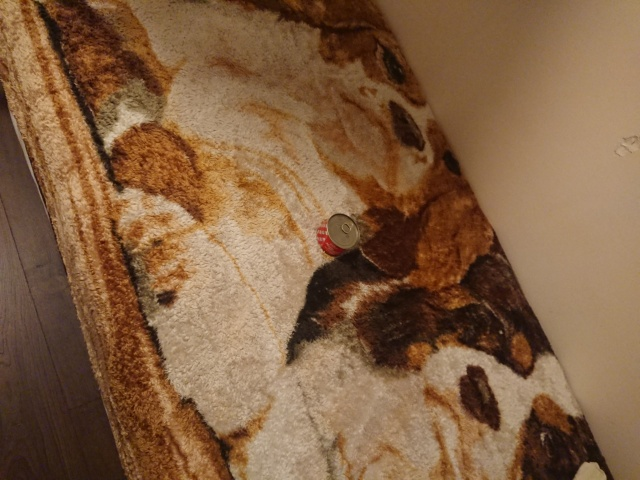Podravka Luncheon Meat 150g: (315, 212, 362, 259)
